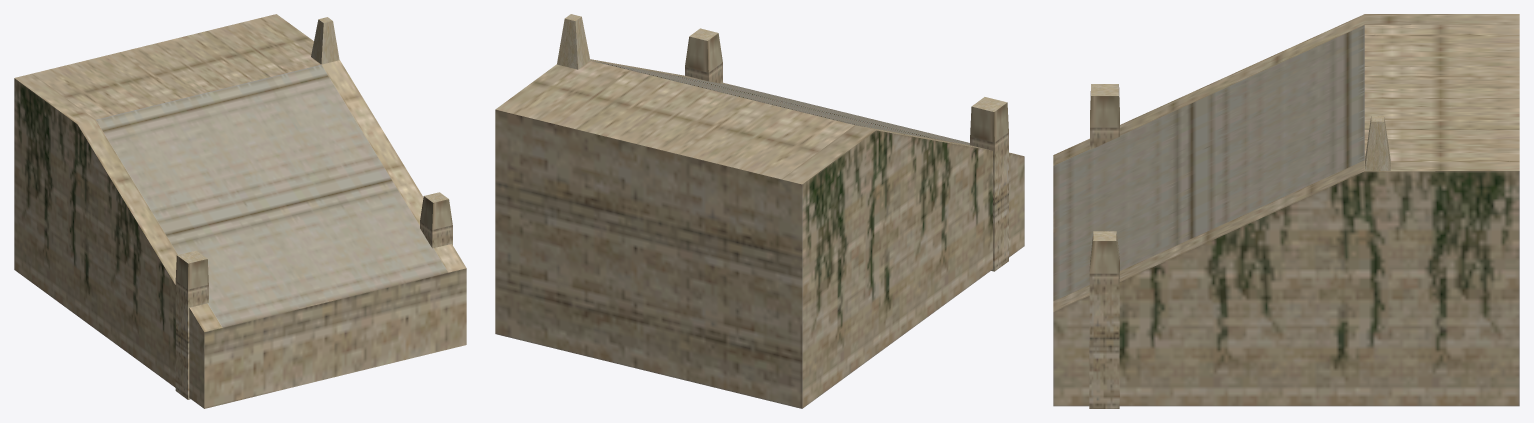
The model's file is thm_nboo_thed_imprv_seawall_stair_s01_l2.fbx.
3 renders of one model, left to right at view 1: azimuth 30°, elevation 25°; view 2: azimuth 150°, elevation 25°; view 3: azimuth 270°, elevation 25°, orthographic. The views are drawn at different scales.
Visible parts, largest first — view 1: mesh_node; view 2: mesh_node; view 3: mesh_node.
Part boxes in pixels (x1,y1,x2,y2): mesh_node: [14, 14, 466, 408]; mesh_node: [495, 14, 1024, 408]; mesh_node: [1053, 14, 1519, 408].
Size of the model in its own units: 8.67 by 7.25 by 10.78.
Materials: 1 (1 with a texture image).
